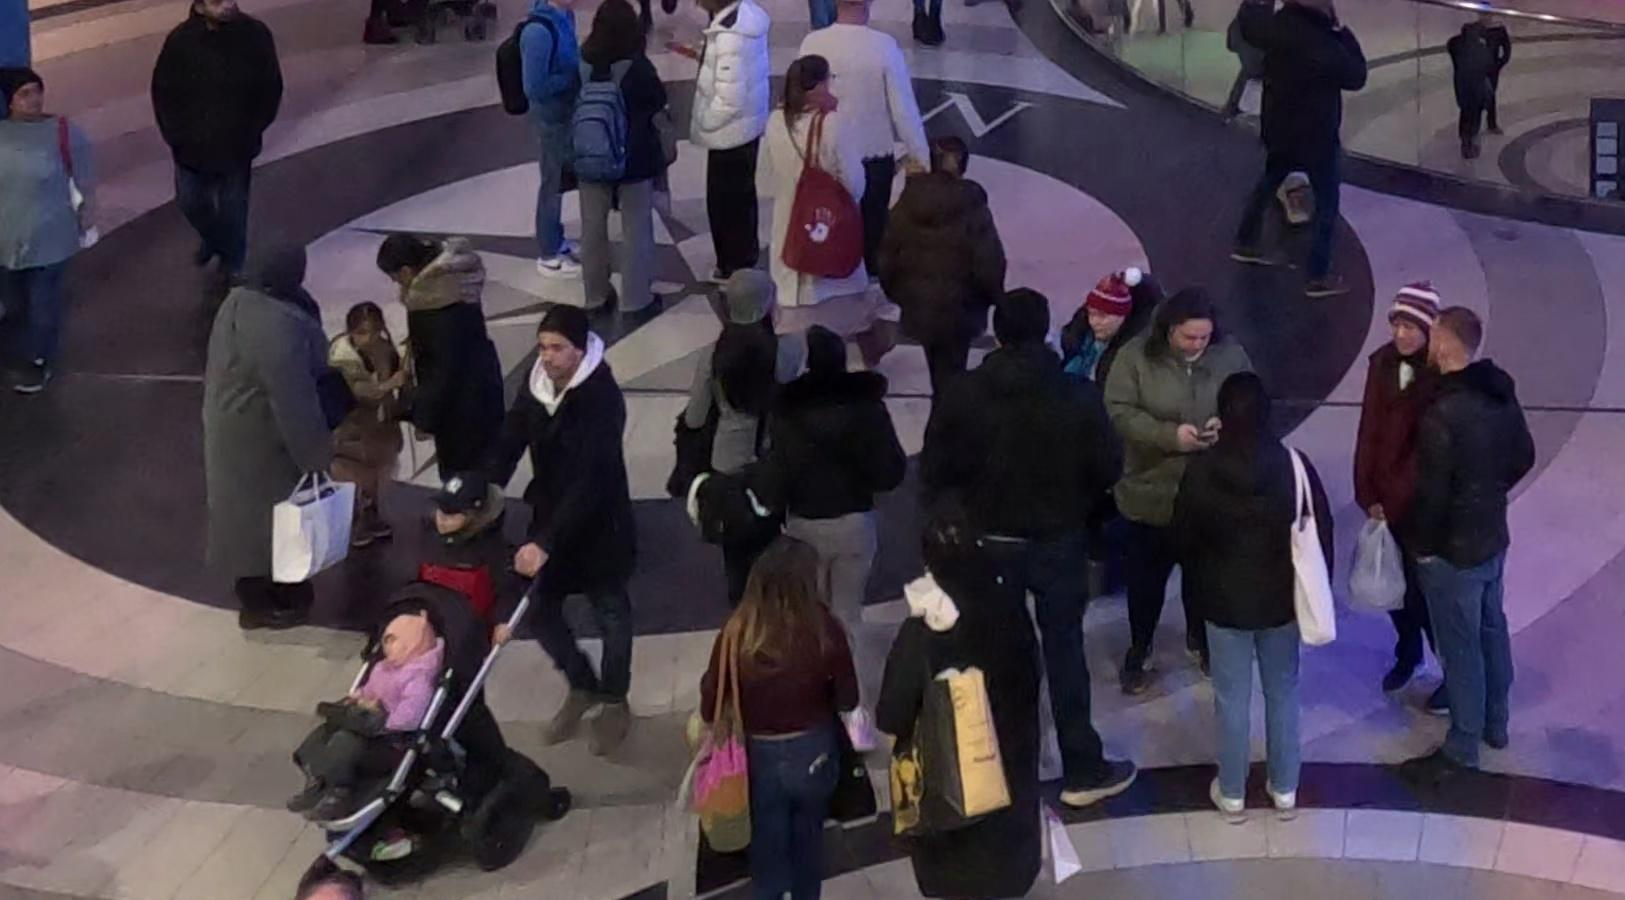person: (922, 279, 1132, 836), (1395, 300, 1535, 807), (1168, 376, 1318, 828), (689, 563, 867, 900), (512, 319, 651, 744), (143, 4, 278, 300), (765, 329, 910, 592), (369, 225, 509, 488), (1, 46, 98, 404), (689, 255, 802, 526)
